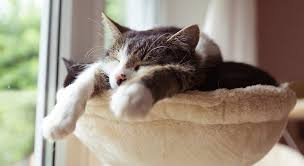Gato: (80, 13, 223, 105)
